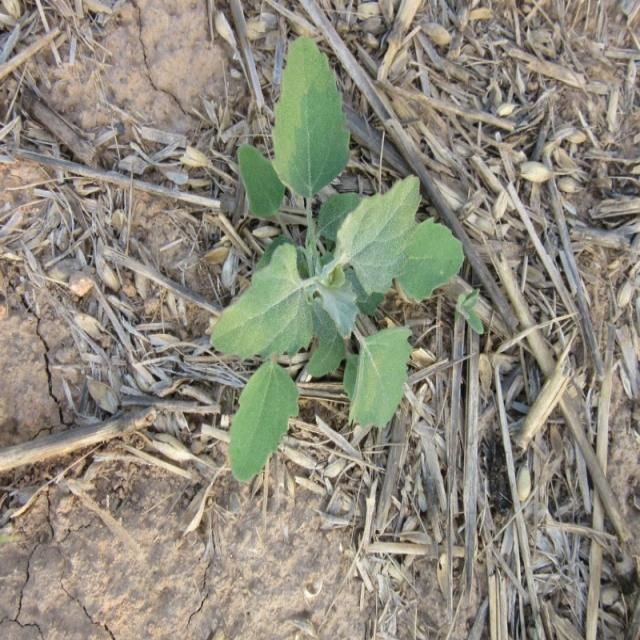ca: (215, 35, 464, 475)
